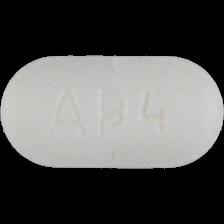0904-5523: (0, 0, 224, 224)
